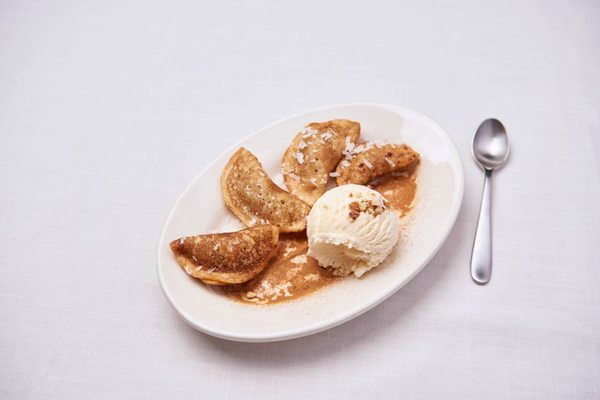salad: (468, 117, 511, 284)
